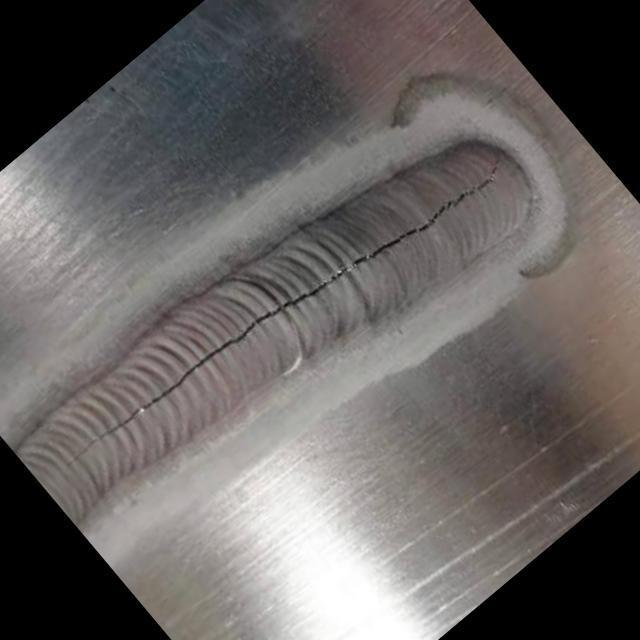defect: (65, 148, 505, 469)
